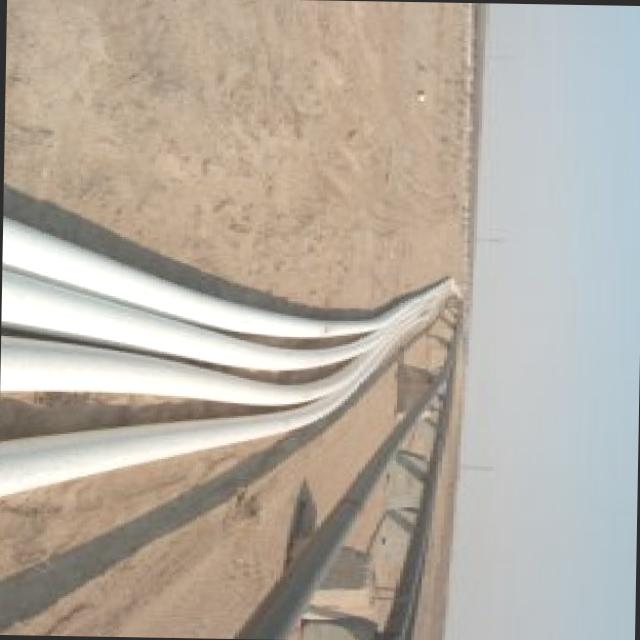gas: (1, 220, 452, 337), (0, 363, 375, 497), (0, 272, 385, 367), (0, 338, 373, 404)
